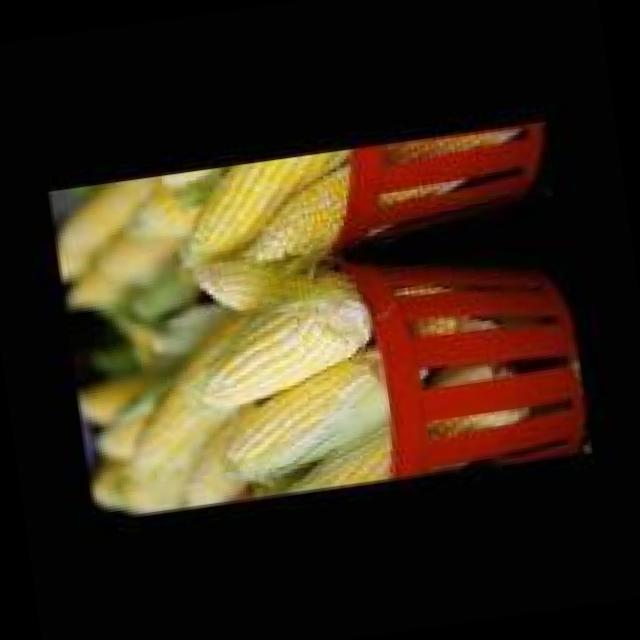corn: (94, 149, 373, 511)
